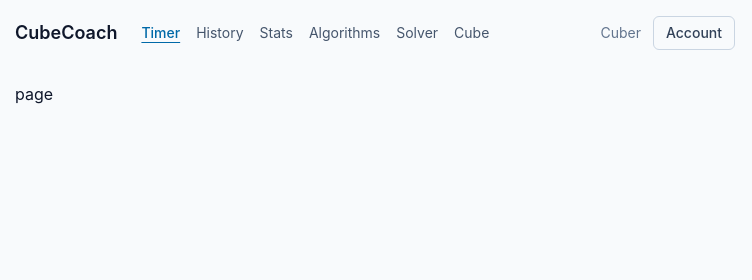
Test: email confirmation in the account menu › offers a new link when the address is not confirmed
Click the button "Account": (694, 33) [653,16,735,50]
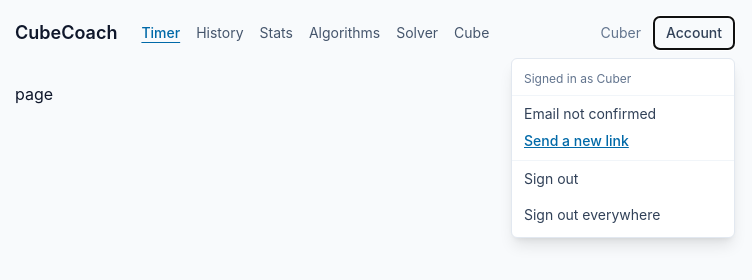
Expected: the text "Email not confirmed" is shown, [524,105,656,122]
Click the button "Send a new link": (576, 141) [524,131,629,151]
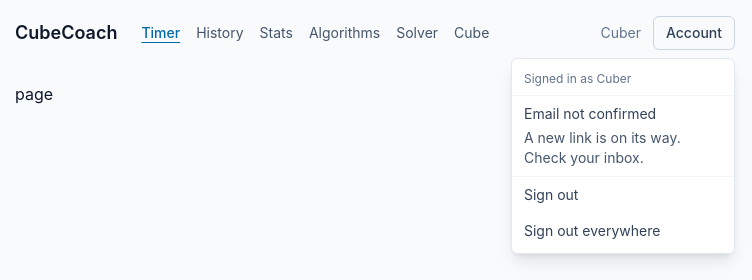
Expected: the message shows "on its way", [524,129,681,166]
